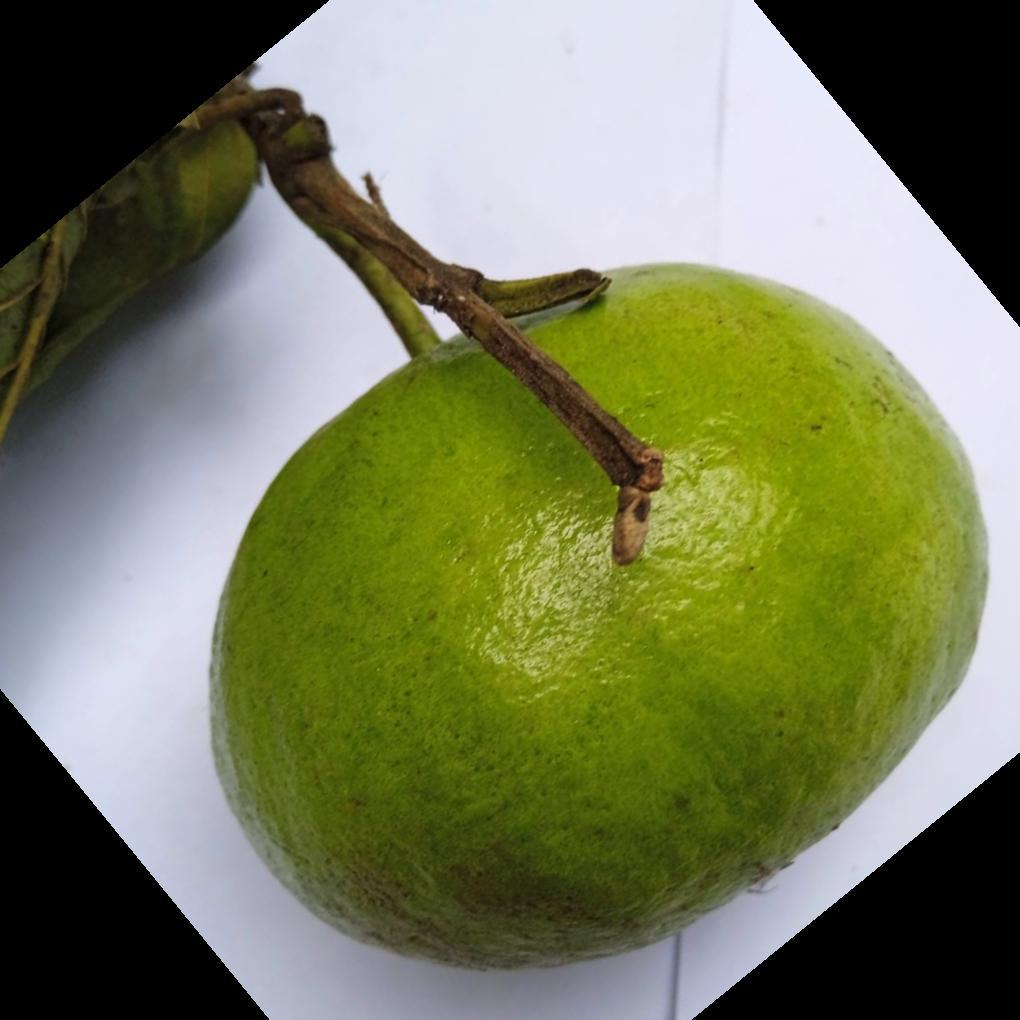FreshGuava: (205, 263, 989, 978)
